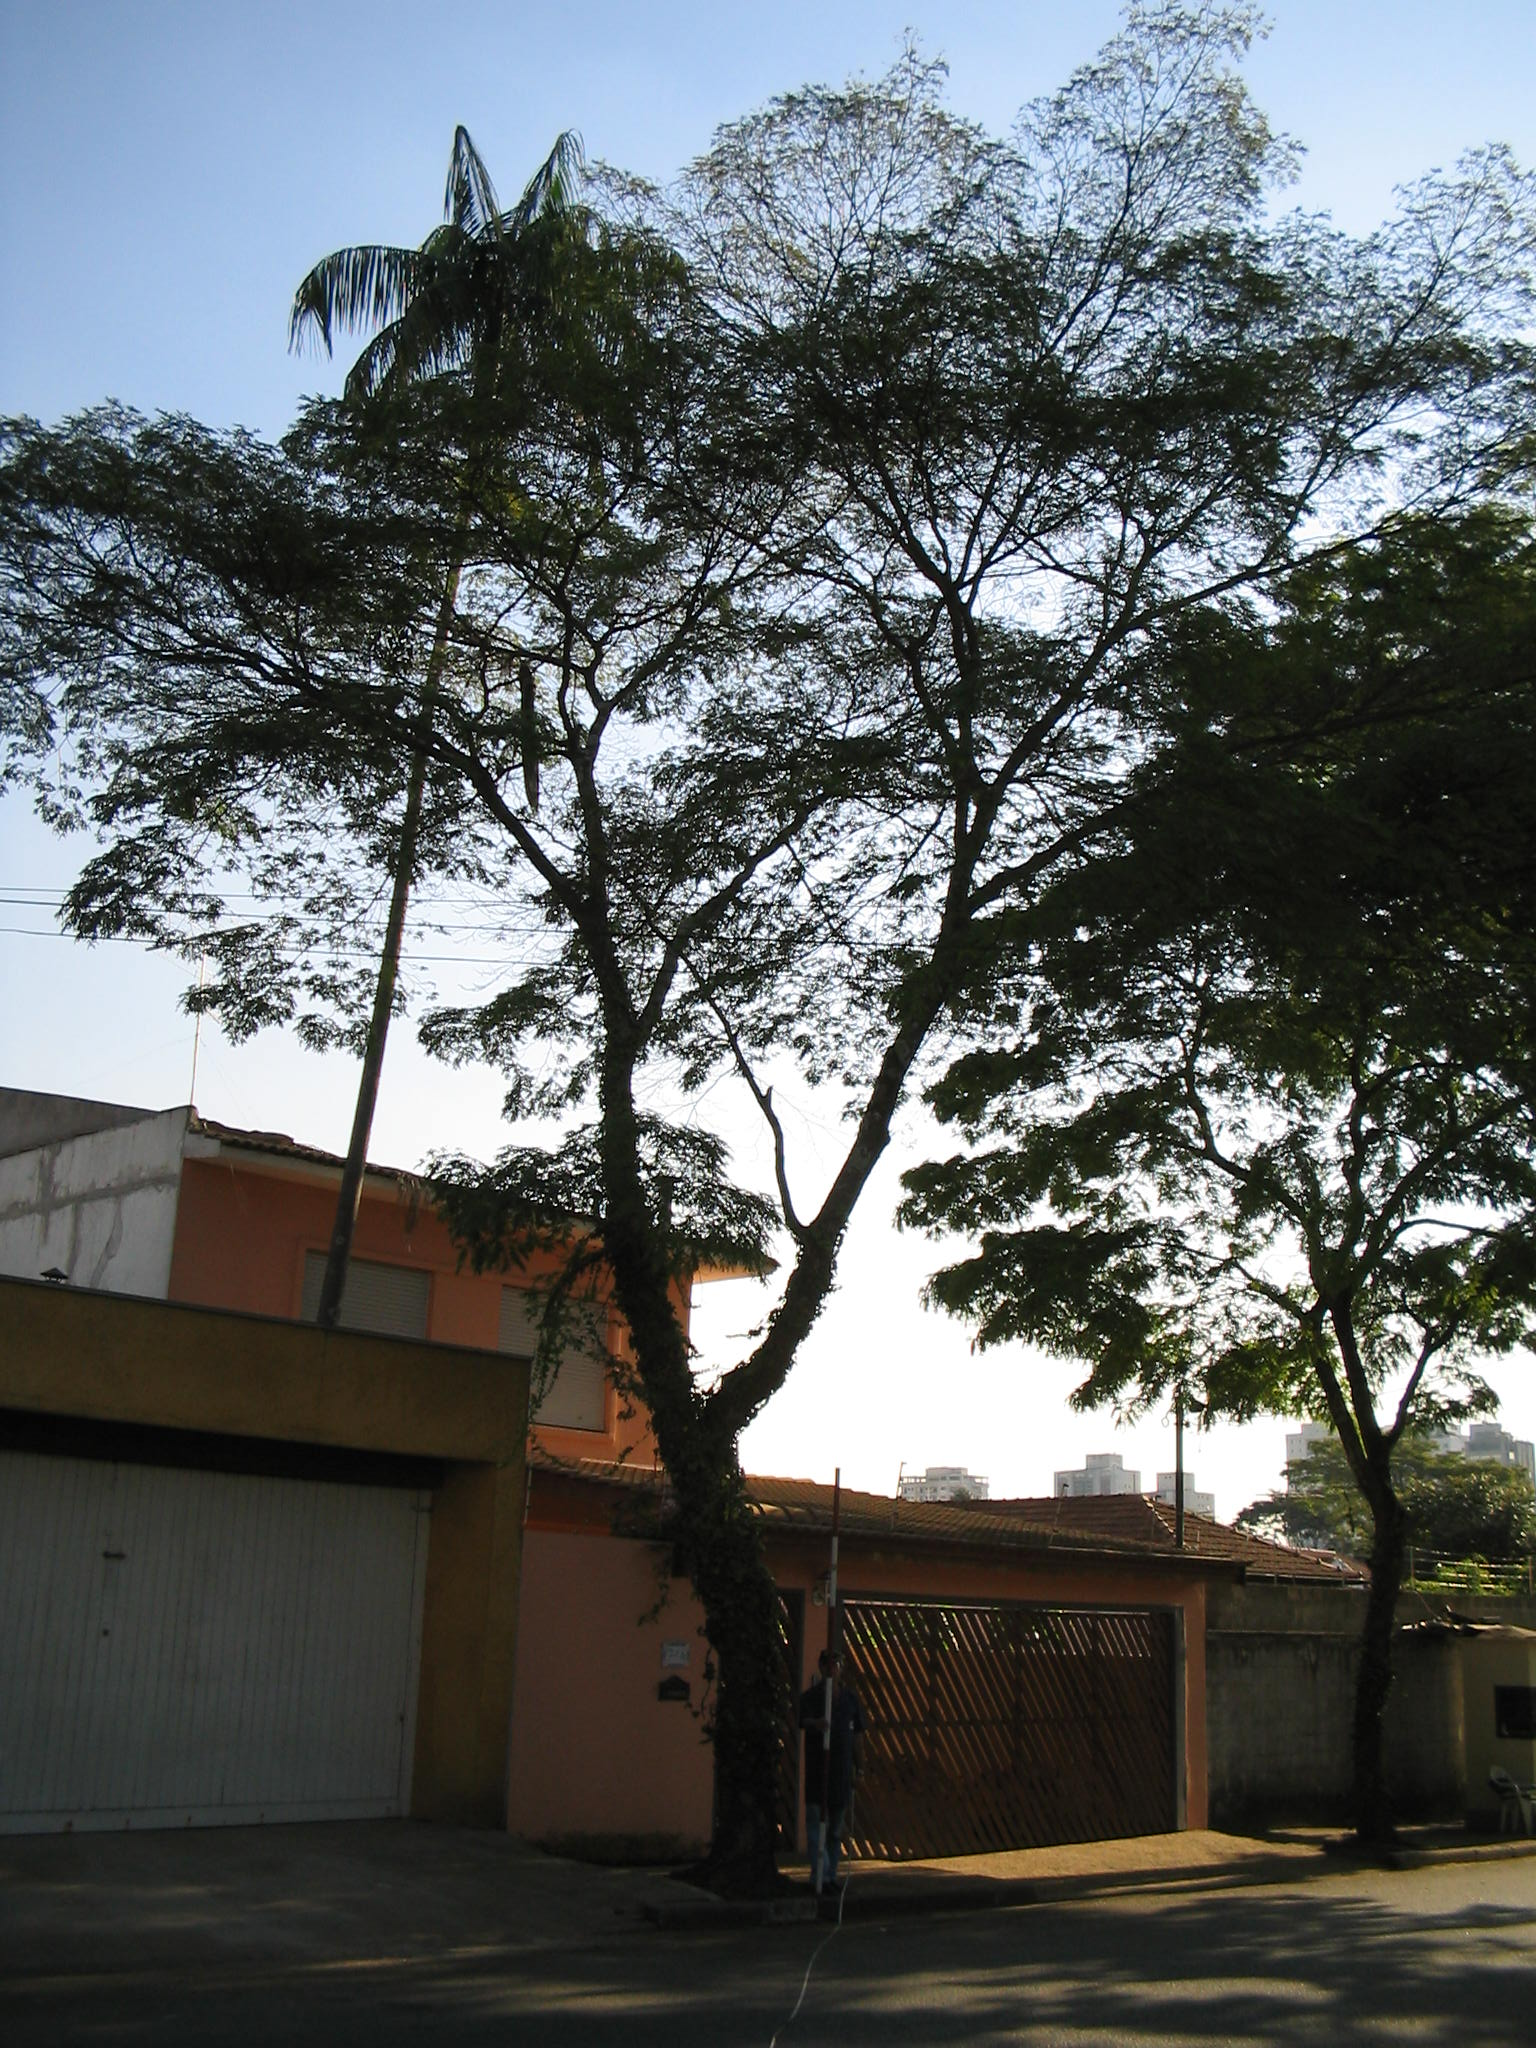crown: (15, 8, 1515, 1150), (923, 508, 1533, 1458)
stem: (620, 1416, 816, 1890), (1312, 1474, 1444, 1846)
stick: (794, 1466, 857, 1901)
tree: (10, 5, 1520, 1896), (915, 503, 1536, 1850)
